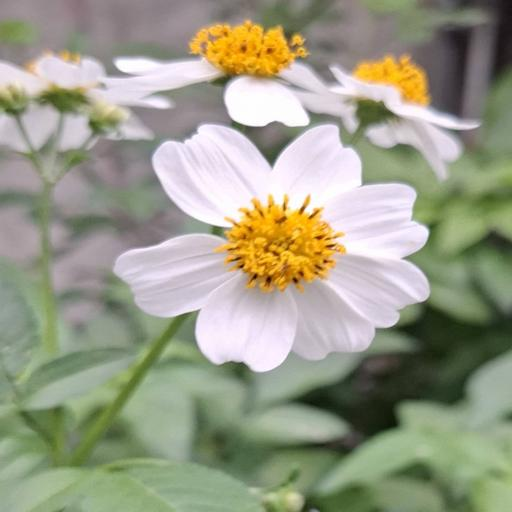Bidens: (98, 120, 461, 380)
